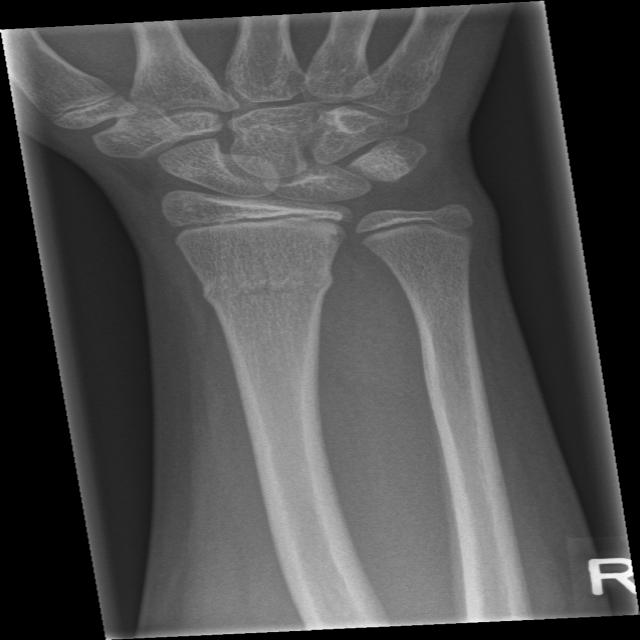radius fracture: (165, 263, 389, 371)
